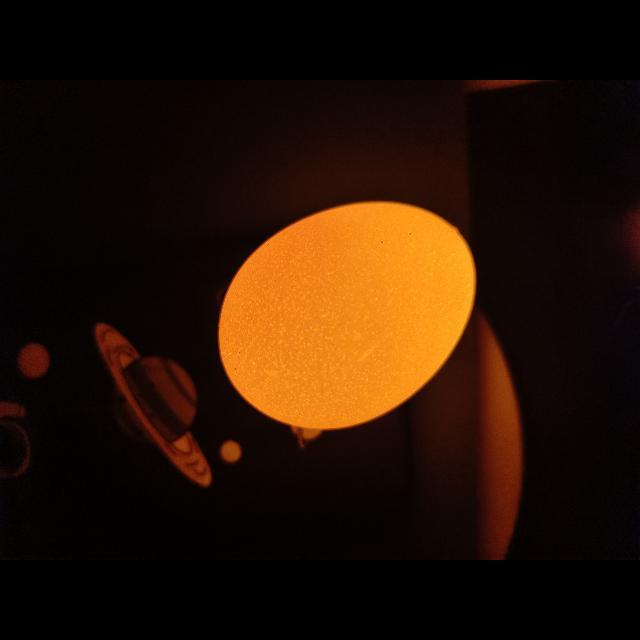AA - Premium: (339, 288, 343, 290)
